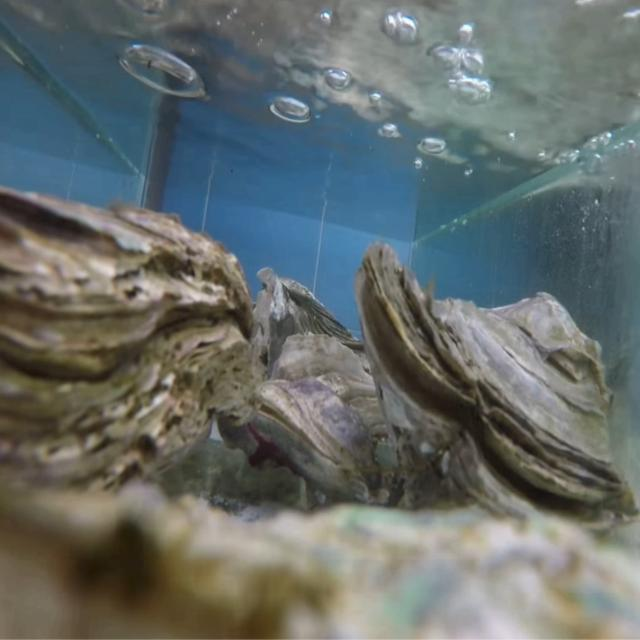Oyster-Closed: (0, 185, 256, 521), (250, 332, 406, 508)
Oyster-Indeterminate: (0, 486, 640, 640)
Oyster-Open: (355, 242, 640, 544)
